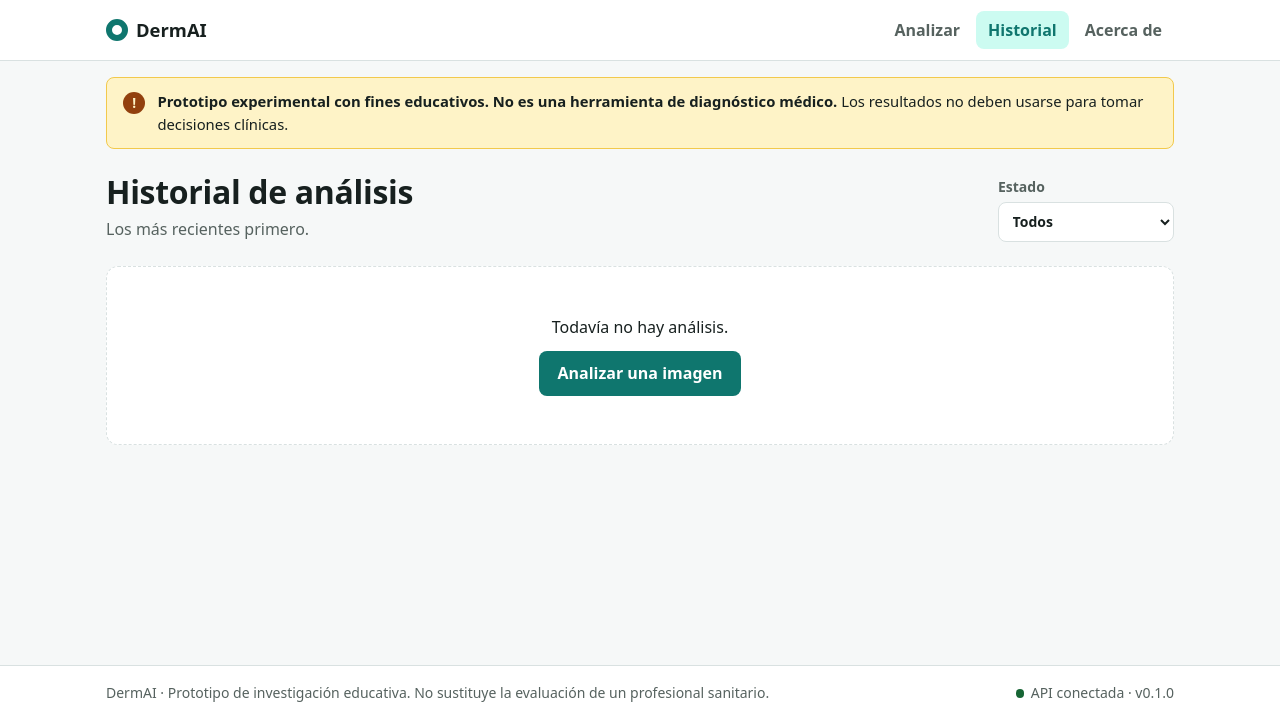
HistoryPage › filtra por estado y lo refleja en la URL
The image size is (1280, 720).
Expected: the text "Todavía no hay análisis." is shown, top-left (552, 315), bottom-right (728, 339)
Select "Fallido" in the dropdown labelled "Estado" at (1086, 222), box top-left (998, 202), bottom-right (1174, 242)
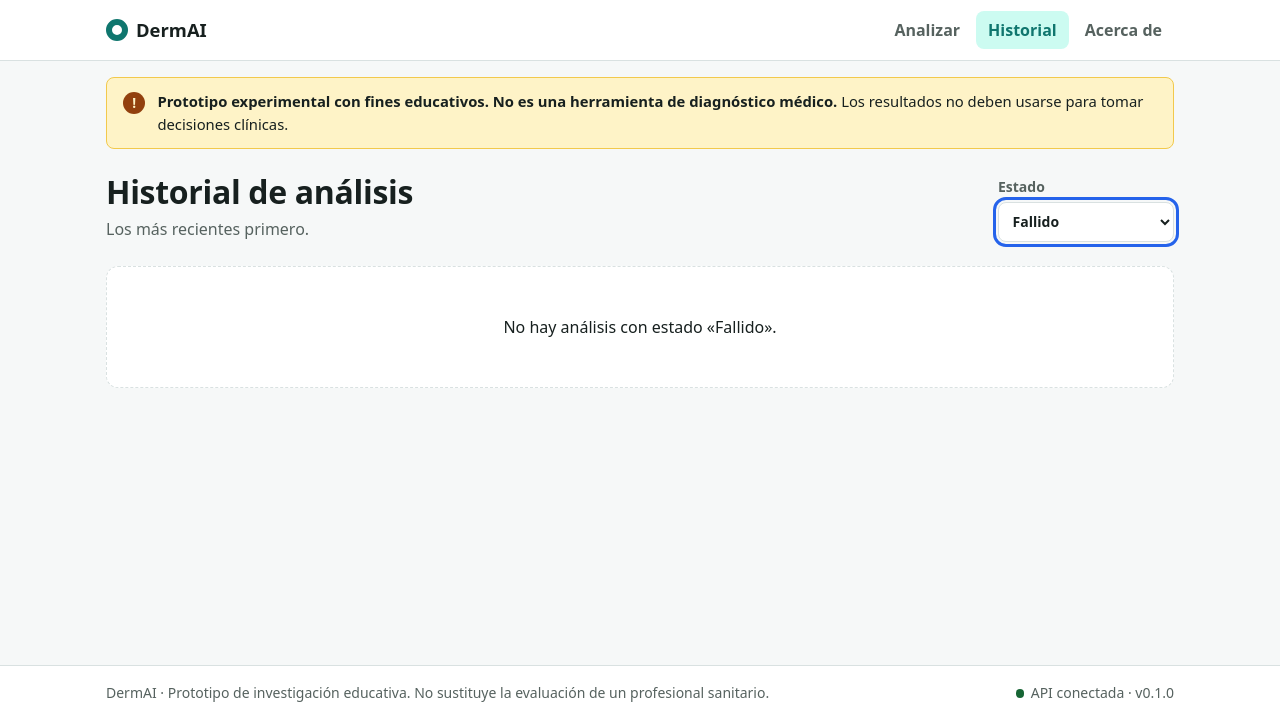
Now the text "No hay análisis con estado «Fallido»." is shown, box top-left (503, 315), bottom-right (777, 339)
